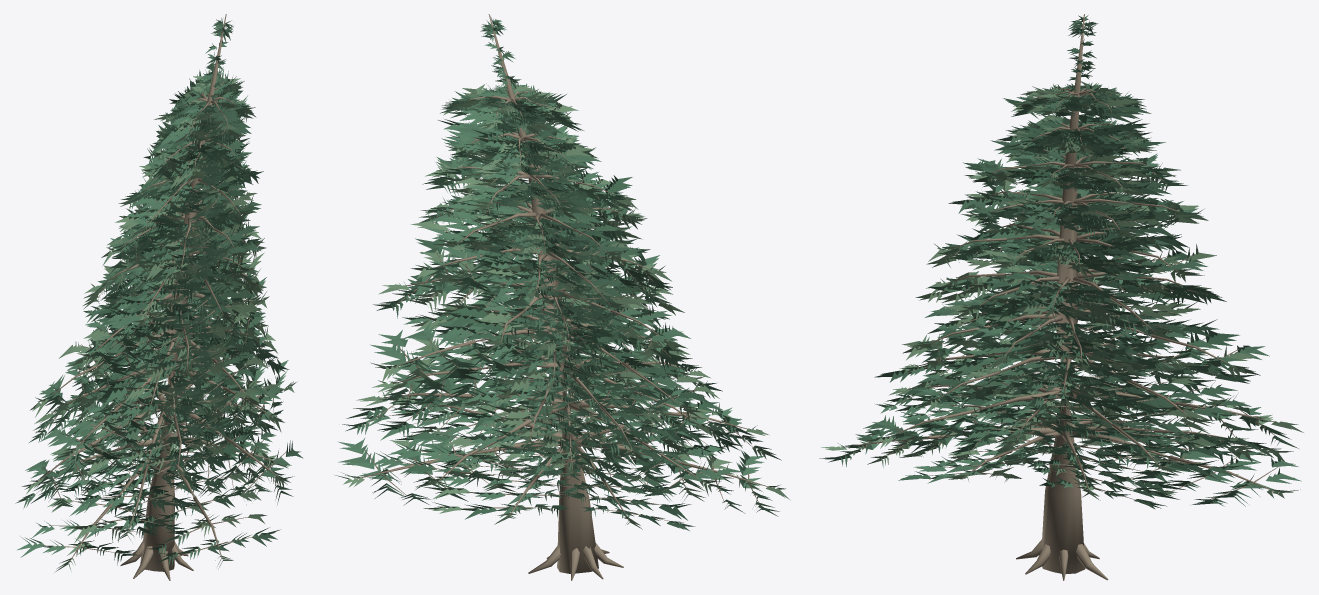
The model's file is cedar_6.glb.
The picture shows the model from 3 angles, left to right: view 1: azimuth 30°, elevation 25°; view 2: azimuth 150°, elevation 25°; view 3: azimuth 270°, elevation 25°; orthographic projection. The views are drawn at different scales.
Parts seen in each view (by area): view 1: tree_conifer_ConiferLeaf, tree_conifer_ConiferLeafLight, tree_conifer_ConiferLeafDark, tree_conifer_ConiferBark; view 2: tree_conifer_ConiferLeaf, tree_conifer_ConiferLeafLight, tree_conifer_ConiferLeafDark, tree_conifer_ConiferBark; view 3: tree_conifer_ConiferLeaf, tree_conifer_ConiferLeafLight, tree_conifer_ConiferBark, tree_conifer_ConiferLeafDark.
Boxes of the visible parts, bbox=[...] form: tree_conifer_ConiferLeaf: bbox=[15, 18, 291, 565]; tree_conifer_ConiferLeafLight: bbox=[21, 69, 297, 571]; tree_conifer_ConiferLeafDark: bbox=[31, 69, 303, 566]; tree_conifer_ConiferBark: bbox=[34, 14, 286, 580]; tree_conifer_ConiferLeaf: bbox=[337, 16, 779, 530]; tree_conifer_ConiferLeafLight: bbox=[335, 81, 790, 529]; tree_conifer_ConiferLeafDark: bbox=[346, 83, 744, 525]; tree_conifer_ConiferBark: bbox=[356, 14, 772, 580]; tree_conifer_ConiferLeaf: bbox=[819, 15, 1301, 509]; tree_conifer_ConiferLeafLight: bbox=[821, 81, 1303, 500]; tree_conifer_ConiferBark: bbox=[843, 14, 1280, 580]; tree_conifer_ConiferLeafDark: bbox=[865, 82, 1291, 490].
Size of the model in its own units: 9.72 by 14.27 by 10.56.
